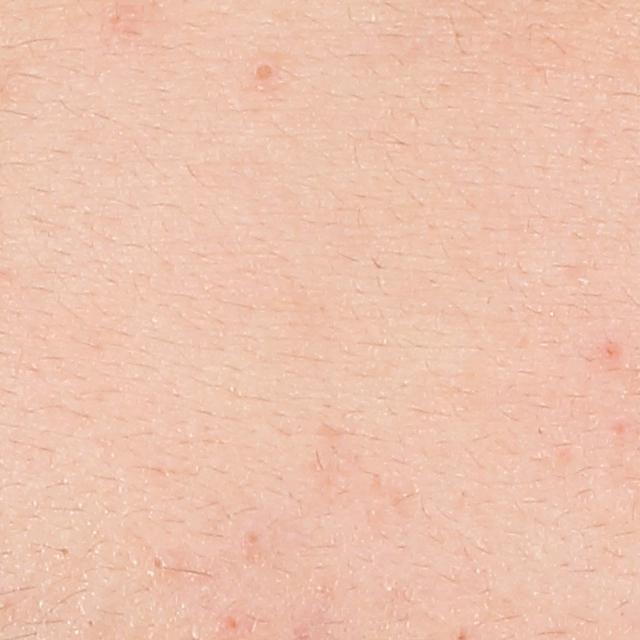comedo: (255, 60, 276, 83)
